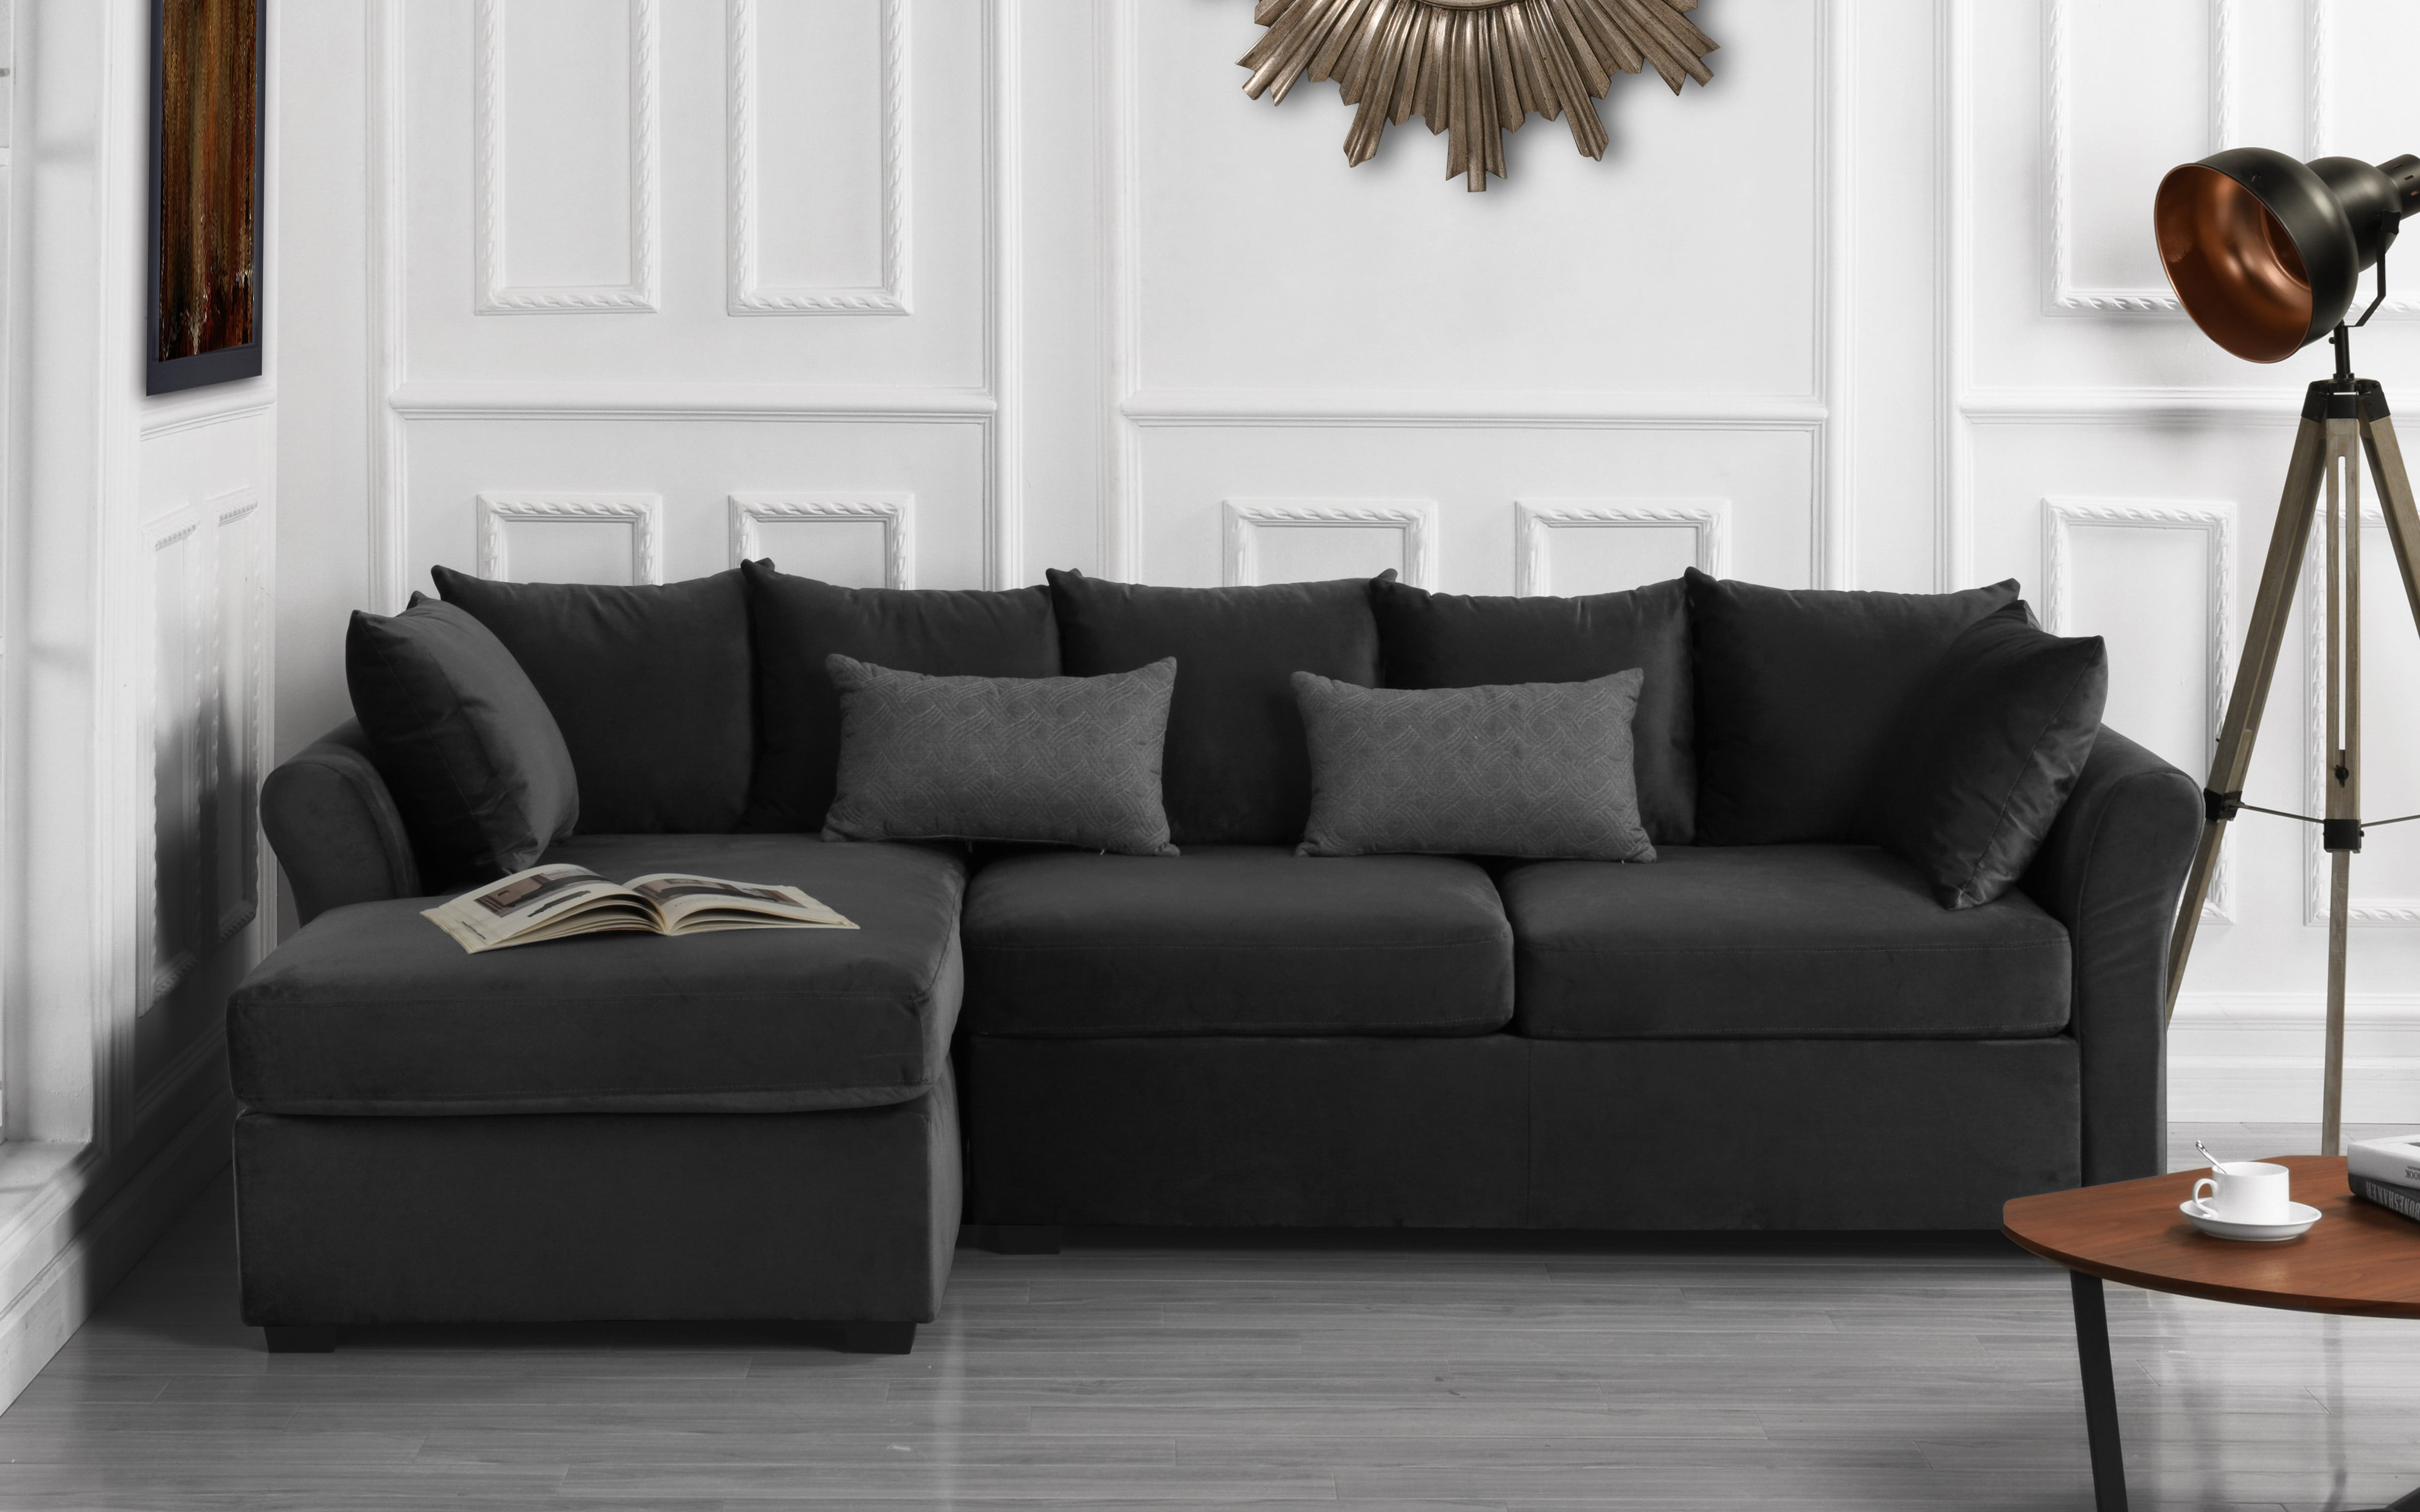sofa: (213, 559, 2204, 1345)
